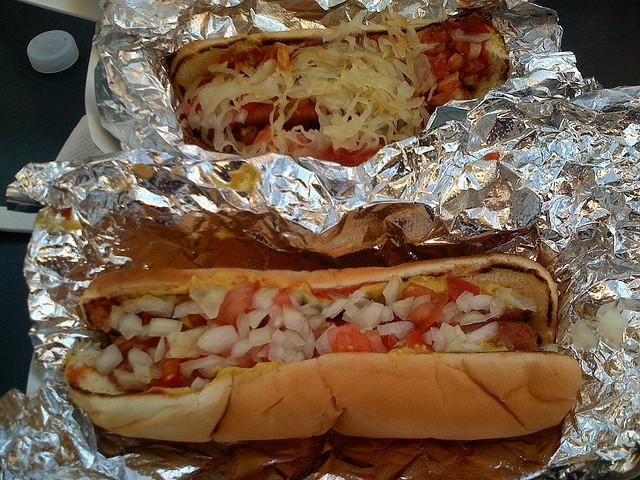tomato: (229, 95, 320, 132), (213, 279, 261, 332), (315, 141, 386, 167), (418, 24, 452, 54), (118, 336, 160, 357), (446, 278, 480, 302), (428, 53, 455, 83), (336, 331, 372, 353), (399, 282, 437, 300), (172, 314, 208, 332), (236, 49, 268, 69), (459, 62, 483, 85), (236, 355, 270, 368), (90, 306, 109, 327), (240, 126, 258, 148), (274, 291, 292, 310), (382, 333, 398, 352), (406, 330, 426, 344)
